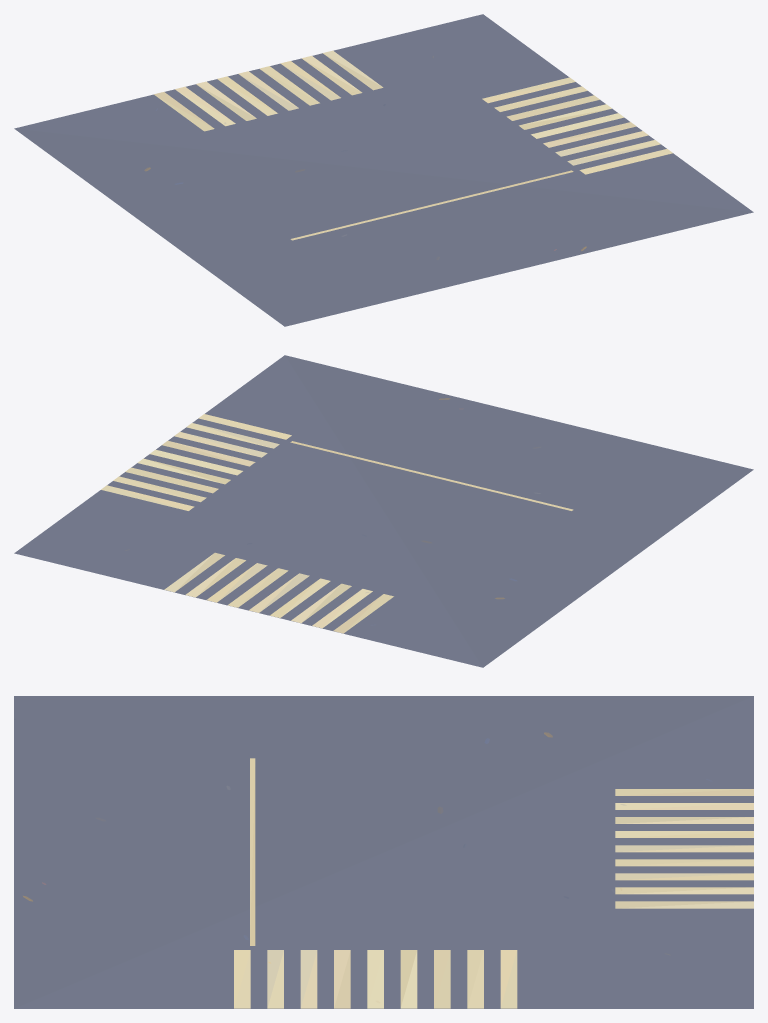
File: HK_RoadSurf_Tee.lod.glb
3 renders of one model, top to bottom at view 1: azimuth 30°, elevation 25°; view 2: azimuth 150°, elevation 25°; view 3: azimuth 270°, elevation 25°, orthographic. The views are drawn at different scales.
Visible parts, largest first — view 1: HK_RoadSurf_Tee; view 2: HK_RoadSurf_Tee; view 3: HK_RoadSurf_Tee.
Part boxes in pixels (<box>): HK_RoadSurf_Tee: <box>14,14,753,326</box>; HK_RoadSurf_Tee: <box>14,355,753,667</box>; HK_RoadSurf_Tee: <box>14,696,753,1008</box>.
Bounding box in the file's own units: 20 × 0.0145 × 20.
